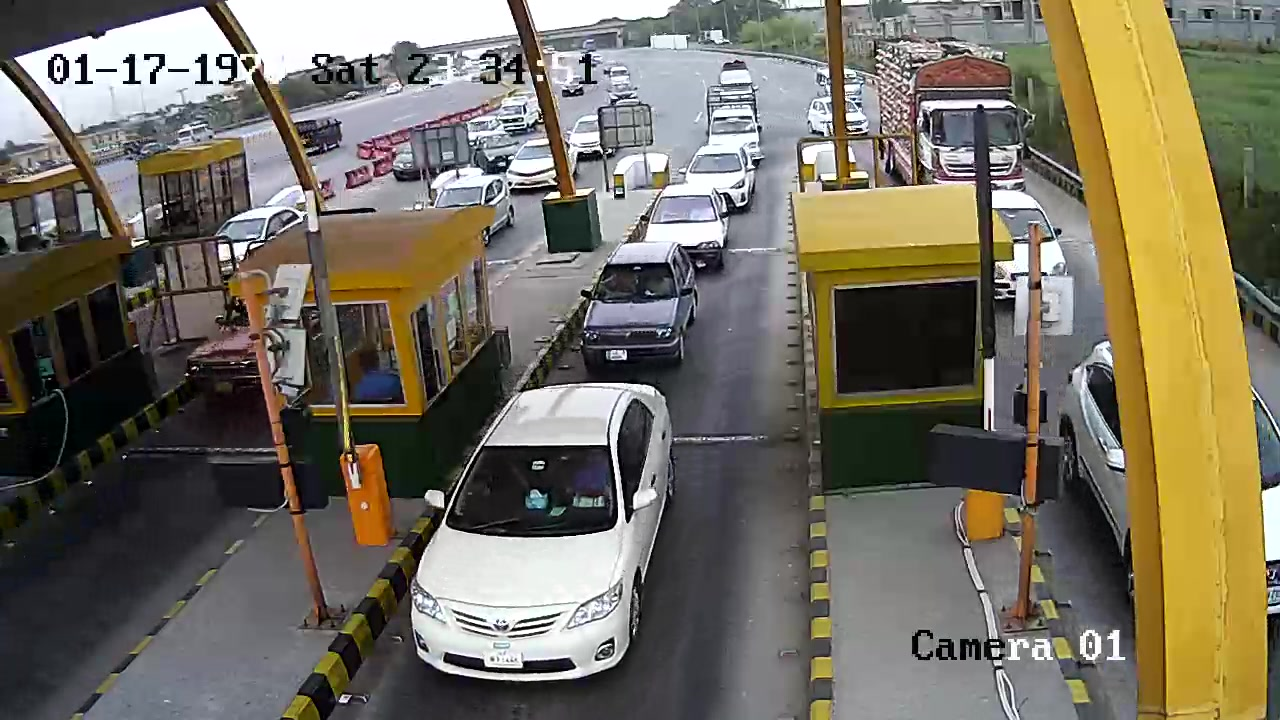F1: (404, 372, 708, 676), (571, 239, 711, 381)
